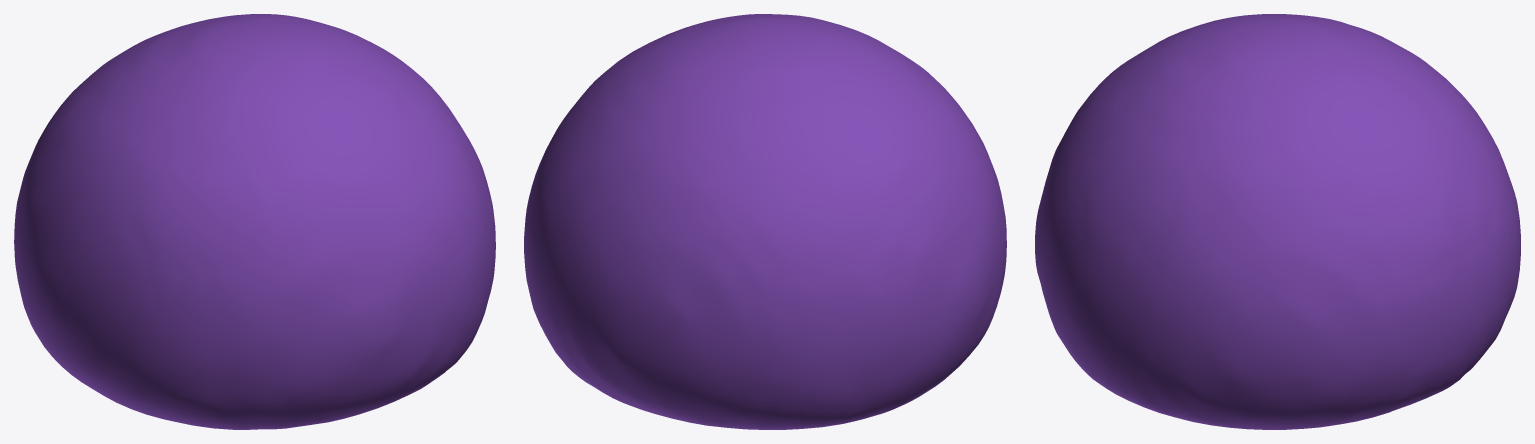
Rendered from slime_0006.dae.
3 renders of one model, left to right at view 1: azimuth 30°, elevation 25°; view 2: azimuth 150°, elevation 25°; view 3: azimuth 270°, elevation 25°, orthographic.
Parts seen in each view (by area): view 1: Slime; view 2: Slime; view 3: Slime.
Boxes of the visible parts, x1,y1,x2,y2 form: Slime: [14, 14, 495, 429]; Slime: [524, 14, 1006, 429]; Slime: [1035, 14, 1520, 429].
Bounding box in the file's own units: 2.06 × 1.62 × 2.06.
